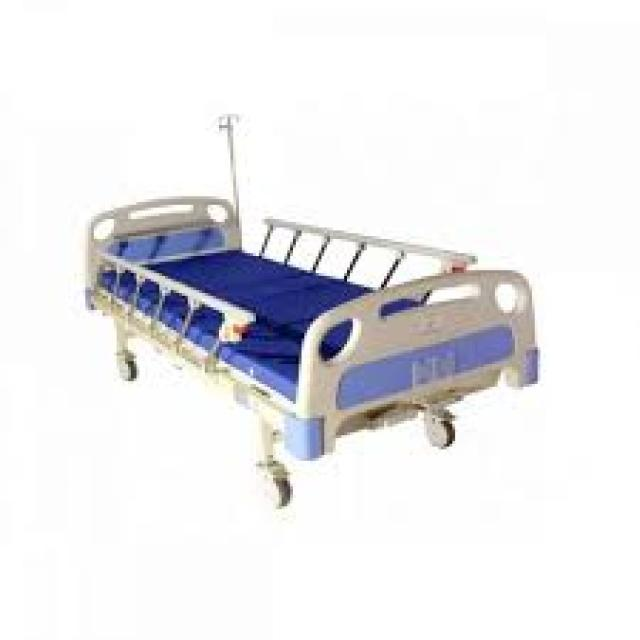bed: (82, 190, 540, 507)
